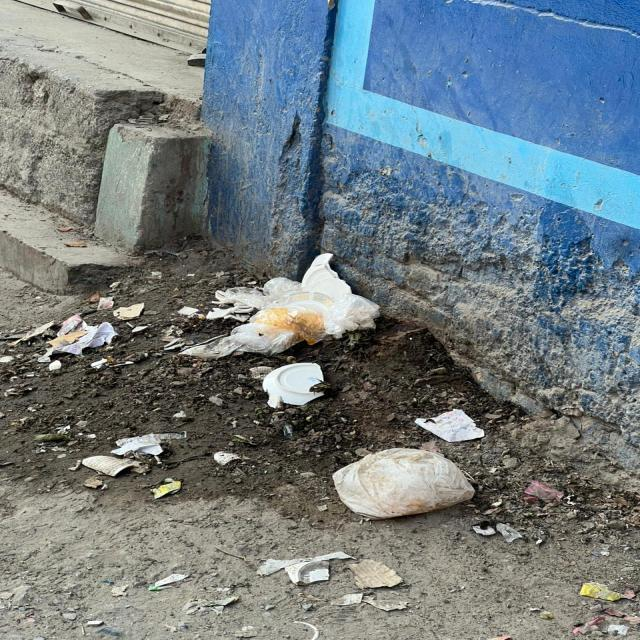garbage: (20, 252, 539, 504)
